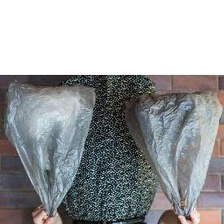plastic_bag: (1, 78, 100, 222), (123, 85, 223, 223)
